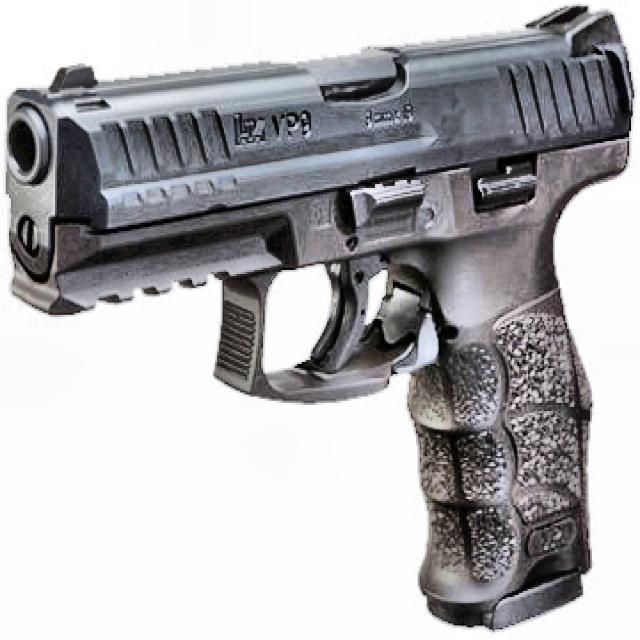HKVP9: (2, 0, 636, 632)
